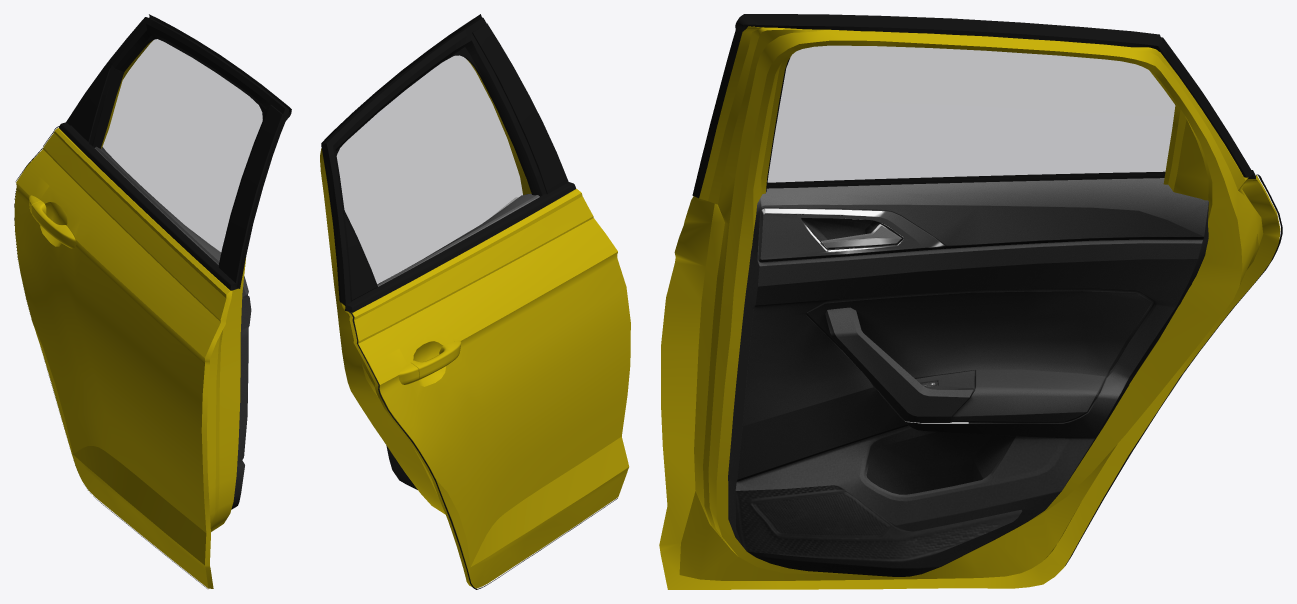
Rendered from door_rr.glb.
3 renders of one model, left to right at view 1: azimuth 30°, elevation 25°; view 2: azimuth 150°, elevation 25°; view 3: azimuth 270°, elevation 25°, orthographic. The views are drawn at different scales.
Visible parts, largest first — view 1: 05_car_body_rr_door_carpaint_C1_0, 49_rr_door_glass_Default OBJ.012_0, 50_rr_door_plastic_plastic_0, 51_rr_door_black_plastic_plastic_0, 52_rr_door_inner_map_c_inner_door_2_0; view 2: 05_car_body_rr_door_carpaint_C1_0, 49_rr_door_glass_Default OBJ.012_0, 50_rr_door_plastic_plastic_0, 51_rr_door_black_plastic_plastic_0, 52_rr_door_inner_map_c_inner_door_2_0, 87_rr_door_plastic_line_plastic_0; view 3: 52_rr_door_inner_map_c_inner_door_2_0, 05_car_body_rr_door_carpaint_C1_0, 49_rr_door_glass_Default OBJ.012_0, 50_rr_door_plastic_plastic_0.
Boxes of the visible parts, left/top/right/bottom form: 05_car_body_rr_door_carpaint_C1_0: left=14, top=40, right=245, bottom=588; 49_rr_door_glass_Default OBJ.012_0: left=92, top=30, right=265, bottom=263; 50_rr_door_plastic_plastic_0: left=58, top=14, right=291, bottom=290; 51_rr_door_black_plastic_plastic_0: left=71, top=68, right=283, bottom=282; 52_rr_door_inner_map_c_inner_door_2_0: left=94, top=146, right=251, bottom=509; 05_car_body_rr_door_carpaint_C1_0: left=320, top=59, right=630, bottom=588; 49_rr_door_glass_Default OBJ.012_0: left=336, top=42, right=542, bottom=285; 50_rr_door_plastic_plastic_0: left=321, top=14, right=576, bottom=312; 51_rr_door_black_plastic_plastic_0: left=343, top=23, right=568, bottom=301; 52_rr_door_inner_map_c_inner_door_2_0: left=377, top=193, right=539, bottom=489; 87_rr_door_plastic_line_plastic_0: left=348, top=311, right=617, bottom=589; 52_rr_door_inner_map_c_inner_door_2_0: left=728, top=178, right=1208, bottom=576; 05_car_body_rr_door_carpaint_C1_0: left=659, top=26, right=1280, bottom=589; 49_rr_door_glass_Default OBJ.012_0: left=767, top=46, right=1174, bottom=185; 50_rr_door_plastic_plastic_0: left=692, top=14, right=1255, bottom=198.
Size of the model in its own units: 0.3212 by 1.08 by 0.9367.
4 materials, 1 textured.
